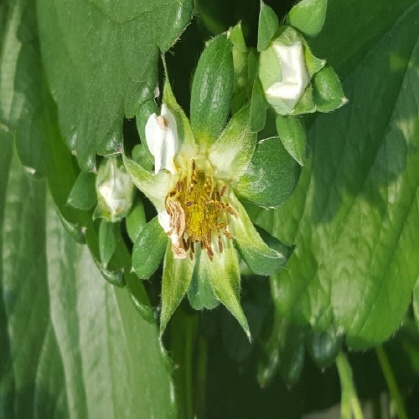Blossom_BT: (163, 157, 243, 261)
